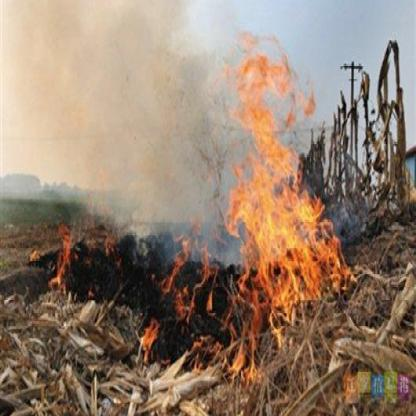fire: (212, 21, 358, 348), (167, 223, 212, 320), (194, 322, 261, 382), (47, 225, 74, 294), (139, 315, 157, 359)
other: (339, 364, 413, 404)
smoke: (22, 8, 98, 145), (87, 11, 147, 183), (142, 38, 200, 200)
